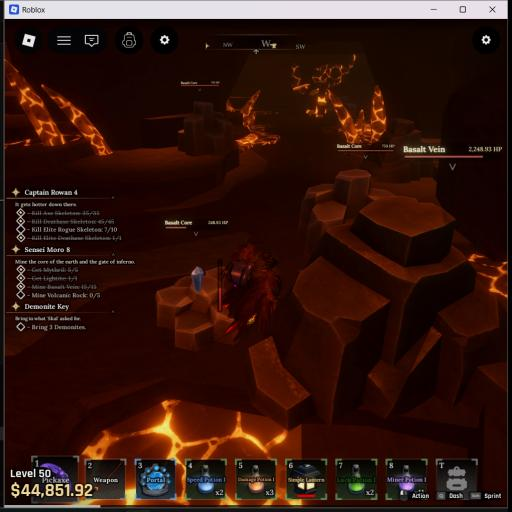player: (224, 244, 281, 328)
rock: (272, 197, 505, 424), (156, 267, 234, 351), (298, 169, 373, 256), (356, 120, 434, 182), (179, 102, 237, 154)
